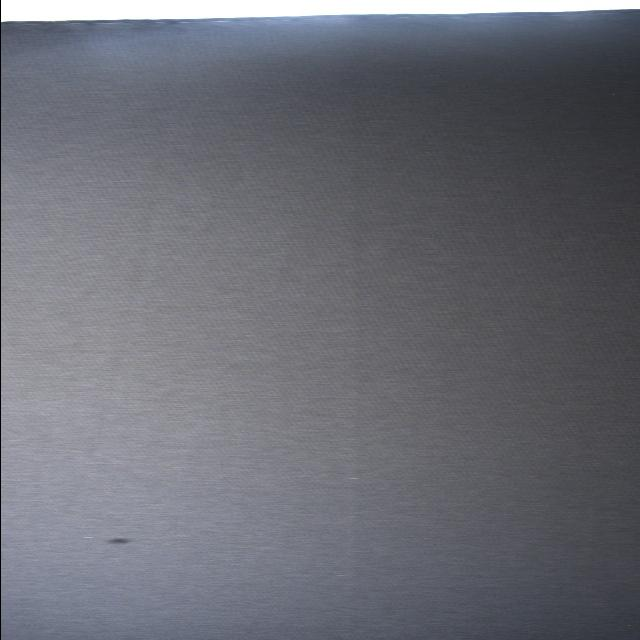crease: (342, 104, 371, 568)
